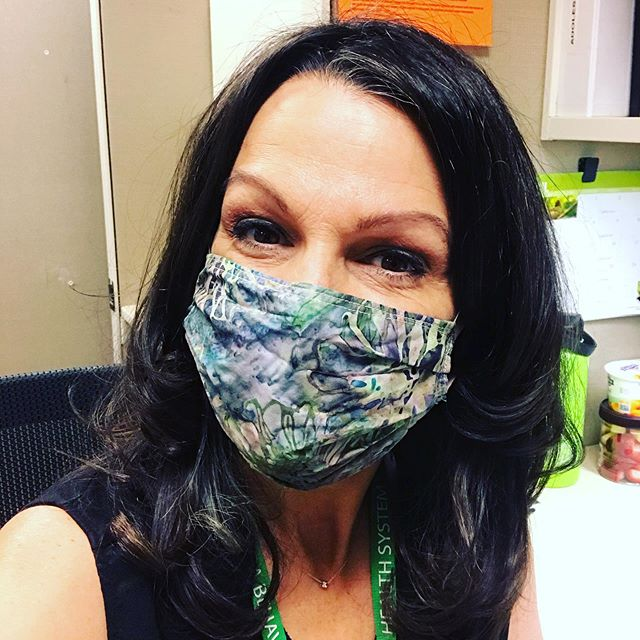homemade: (189, 255, 462, 490)
